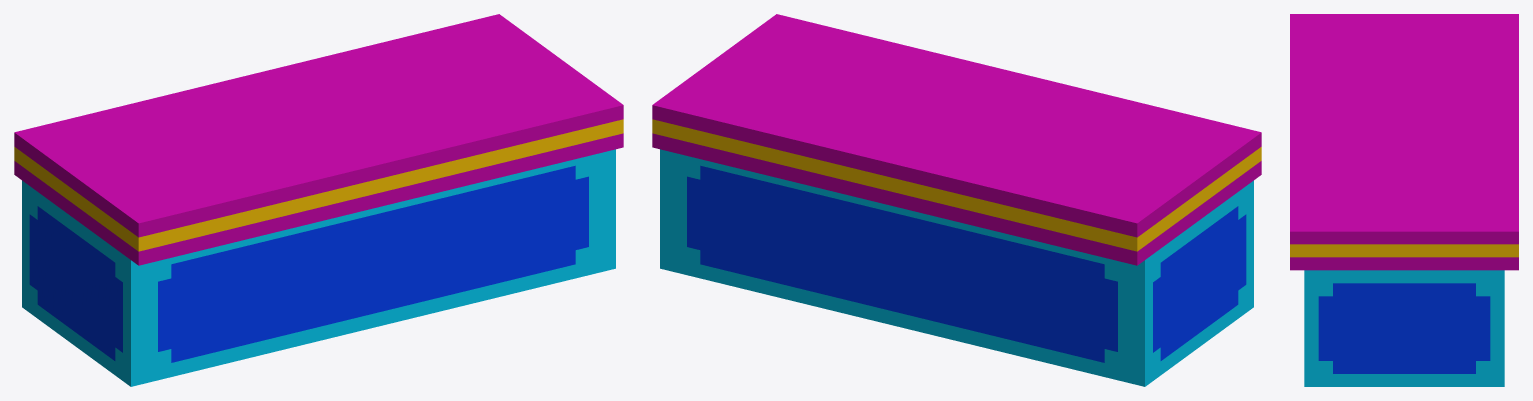
File: wall_2x1_3.obj
3 renders of one model, left to right at view 1: azimuth 30°, elevation 25°; view 2: azimuth 150°, elevation 25°; view 3: azimuth 270°, elevation 25°, orthographic. The views are drawn at different scales.
Size of the model in its own units: 3.6 by 1.2 by 1.6.
1 material, 1 textured.
